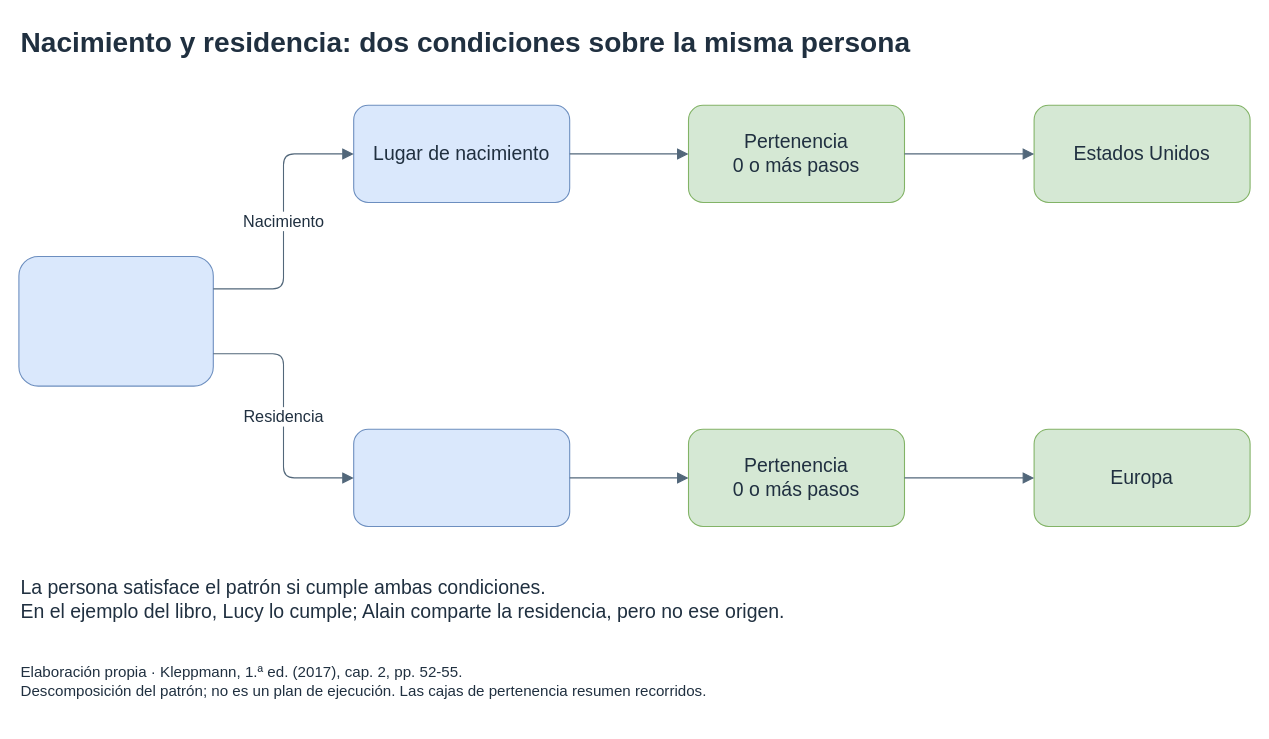
Some shapes in this 1269 by 739 pixel diagram are drawn without their labels. Here are the shapes that lost their labels. From the top down, the box of each, then its label:
(18, 255, 213, 386): La misma persona
(353, 428, 570, 526): Lugar de residencia
